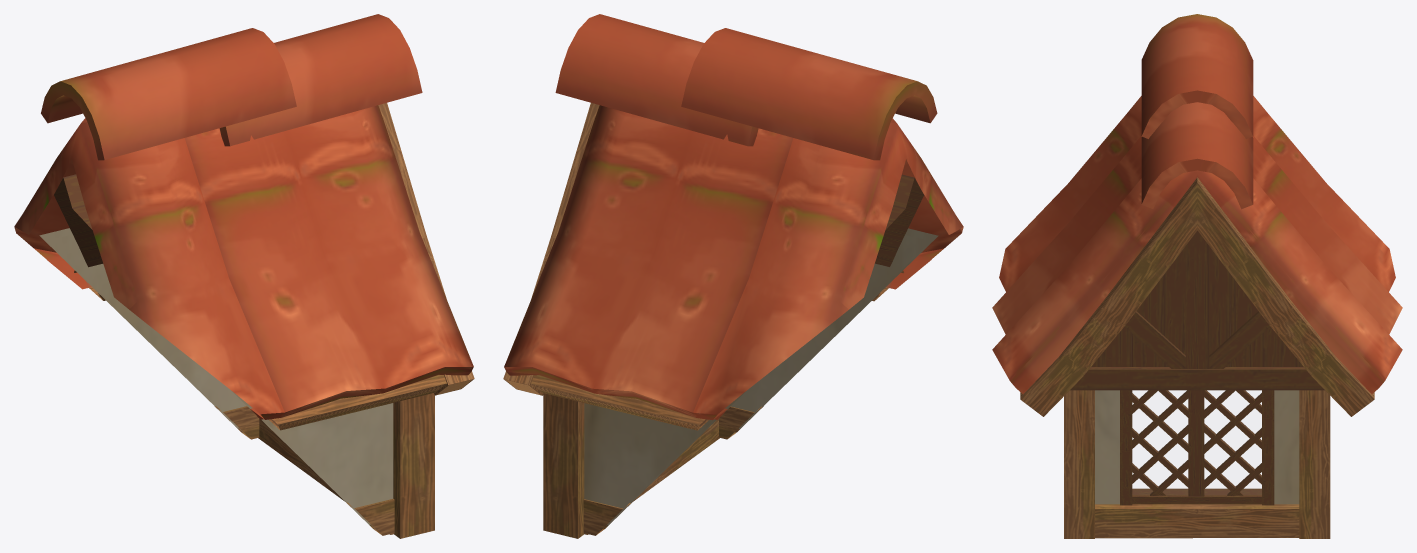
The model's file is Roof_Dormer_RoundTile.glb.
3 renders of one model, left to right at view 1: azimuth 30°, elevation 25°; view 2: azimuth 150°, elevation 25°; view 3: azimuth 270°, elevation 25°, orthographic. The views are drawn at different scales.
Visible parts, largest first — view 1: Roof_Dormer_RoundTile; view 2: Roof_Dormer_RoundTile; view 3: Roof_Dormer_RoundTile.
Part boxes in pixels (x1,y1,x2,y2): Roof_Dormer_RoundTile: (14, 14, 474, 538); Roof_Dormer_RoundTile: (503, 14, 963, 538); Roof_Dormer_RoundTile: (992, 14, 1402, 538).
Size of the model in its own units: 1.97 by 2.67 by 2.44.
4 materials, 3 textured.
